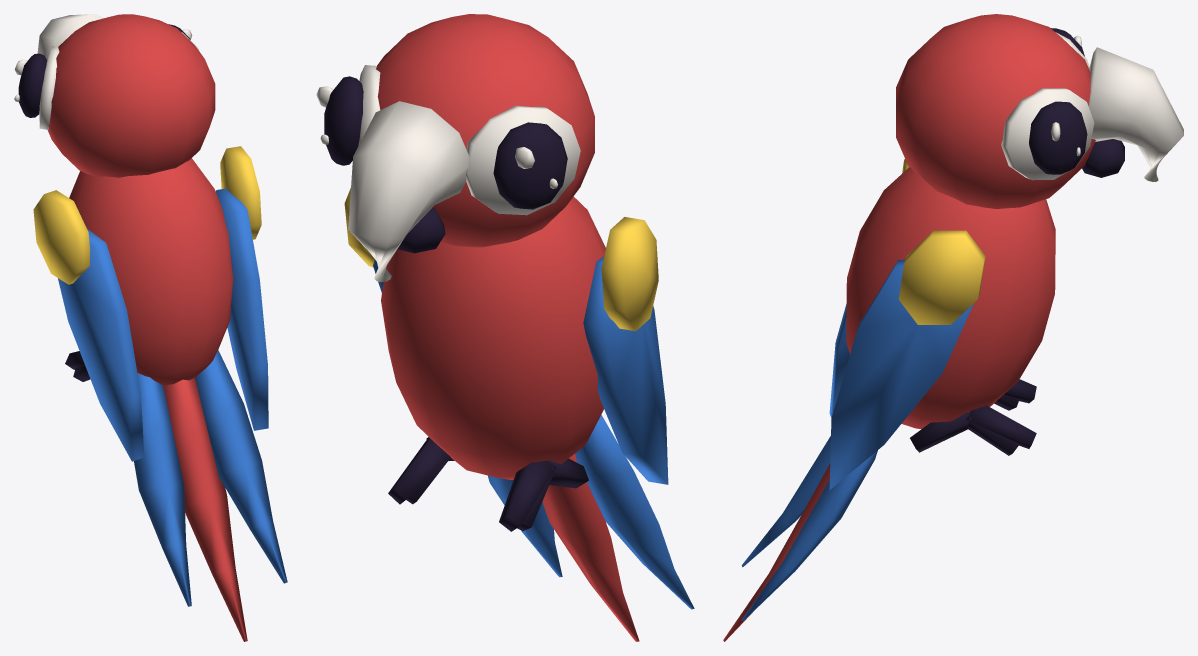
File: perroquet.fbx
3 views of the same model, side by side, from view 1: azimuth 30°, elevation 25°; view 2: azimuth 150°, elevation 25°; view 3: azimuth 270°, elevation 25° (orthographic). The views are drawn at different scales.
Parts seen in each view (by area): view 1: Anim_Tete, Corps, Anim_Queue, Anim_AileDroite, Anim_AileGauche, Anim_OeilGauche; view 2: Corps, Anim_Tete, Anim_AileDroite, Anim_Queue, Anim_OeilGauche, Anim_OeilDroit, Anim_AileGauche; view 3: Anim_Tete, Corps, Anim_AileGauche, Anim_Queue, Anim_OeilDroit, Anim_AileDroite.
Part boxes in pixels (left/top/right/bottom): Anim_Tete: left=37, top=14, right=215, bottom=177; Corps: left=65, top=158, right=233, bottom=386; Anim_Queue: left=134, top=350, right=287, bottom=641; Anim_AileDroite: left=33, top=190, right=144, bottom=461; Anim_AileGauche: left=216, top=146, right=268, bottom=430; Anim_OeilGauche: left=14, top=53, right=47, bottom=117; Corps: left=381, top=196, right=605, bottom=531; Anim_Tete: left=348, top=14, right=594, bottom=282; Anim_AileDroite: left=583, top=217, right=668, bottom=484; Anim_Queue: left=488, top=415, right=694, bottom=641; Anim_OeilGauche: left=493, top=122, right=567, bottom=209; Anim_OeilDroit: left=316, top=76, right=363, bottom=165; Anim_AileGauche: left=344, top=188, right=383, bottom=292; Anim_Tete: left=896, top=14, right=1183, bottom=208; Corps: left=846, top=167, right=1055, bottom=455; Anim_AileGauche: left=829, top=230, right=985, bottom=489; Anim_Queue: left=723, top=436, right=877, bottom=641; Anim_OeilDroit: left=1029, top=101, right=1087, bottom=174; Anim_AileDroite: left=829, top=159, right=909, bottom=417.
Size of the model in its own units: 0.6783 by 1.68 by 1.14.
